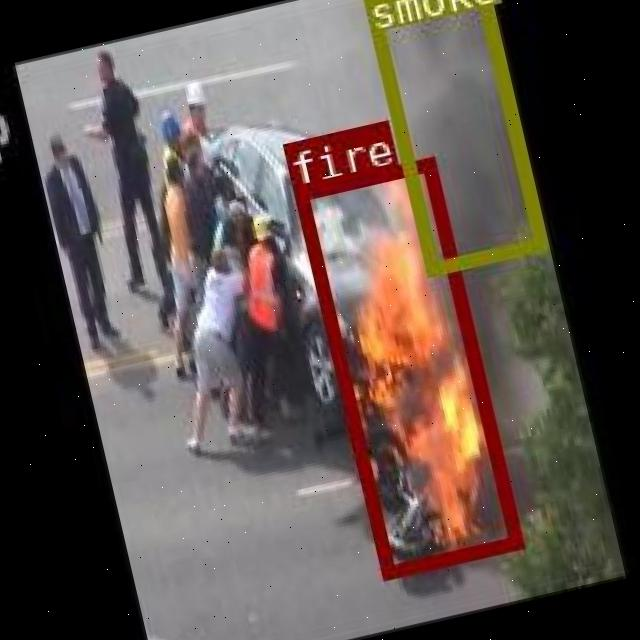fire: (290, 156, 522, 580)
smoke: (359, 0, 546, 272)
